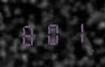eight: (18, 21, 39, 47)
one: (63, 19, 84, 45)
zero: (41, 20, 62, 46)
